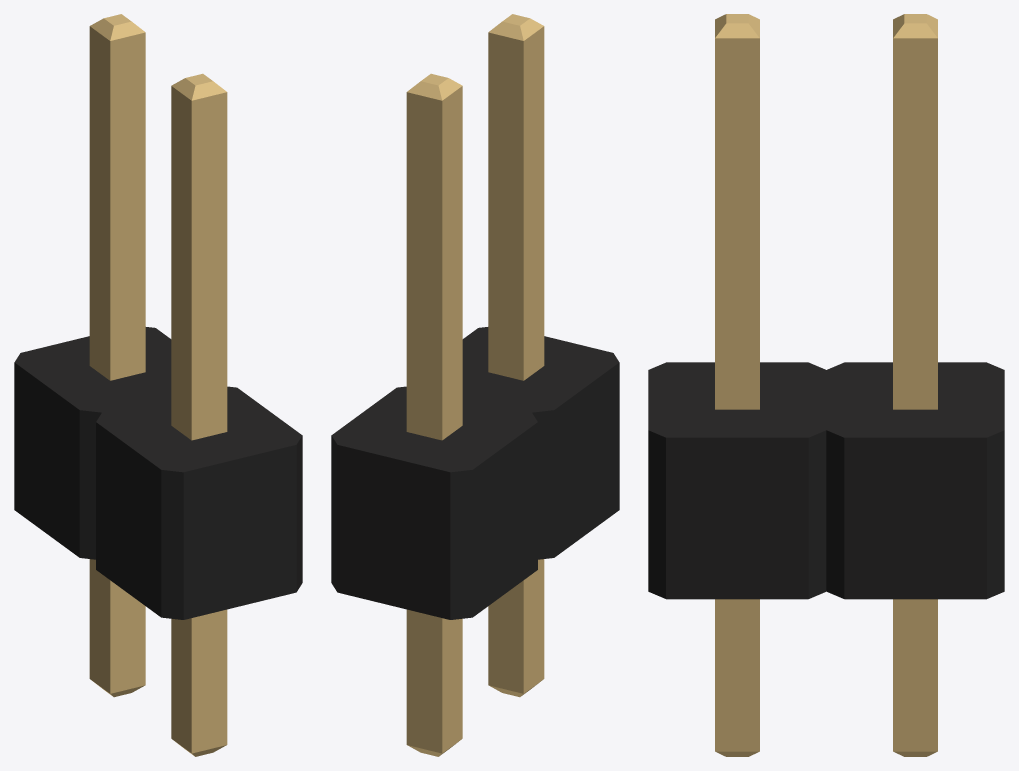
The model's file is header2.glb.
3 renders of one model, left to right at view 1: azimuth 30°, elevation 25°; view 2: azimuth 150°, elevation 25°; view 3: azimuth 270°, elevation 25°, orthographic. The views are drawn at different scales.
Parts seen in each view (by area): view 1: mesh|262525 (×7), mesh|dbbc7e (×8); view 2: mesh|262525 (×7), mesh|dbbc7e (×8); view 3: mesh|262525 (×7), mesh|dbbc7e (×4).
Boxes of the visible parts, <box> form: mesh|262525 (×7): <box>14,327,302,619</box>; mesh|dbbc7e (×8): <box>89,26,227,753</box>; mesh|262525 (×7): <box>331,327,619,619</box>; mesh|dbbc7e (×8): <box>406,26,544,753</box>; mesh|262525 (×7): <box>648,362,1004,599</box>; mesh|dbbc7e (×4): <box>715,38,937,751</box>.
Bounding box in the file's own units: 2.54 × 11.54 × 5.08.
